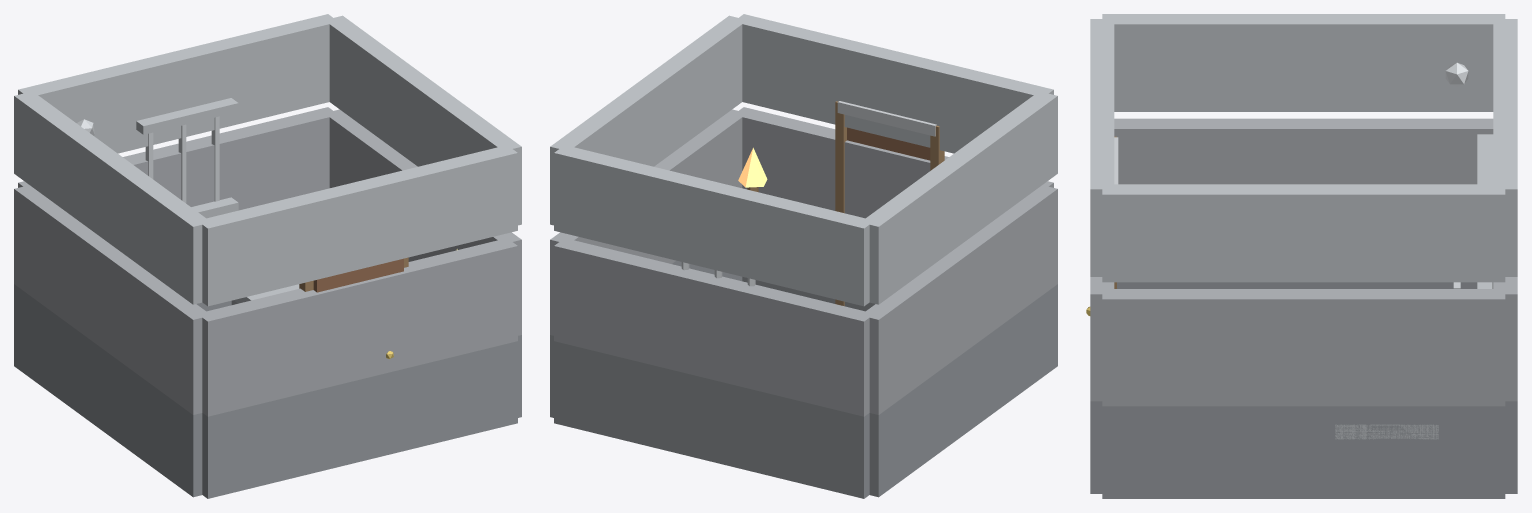
File: dungeon_cell_interior.glb
3 renders of one model, left to right at view 1: azimuth 30°, elevation 25°; view 2: azimuth 150°, elevation 25°; view 3: azimuth 270°, elevation 25°, orthographic. The views are drawn at different scales.
Parts seen in each view (by area): view 1: floor_slab; view 2: floor_slab; view 3: floor_slab.
Part boxes in pixels (x1=…): floor_slab: x1=14, y1=14, x2=521, y2=498; floor_slab: x1=550, y1=14, x2=1057, y2=498; floor_slab: x1=1086, y1=14, x2=1517, y2=498.
Bounding box in the file's own units: 3.18 × 2.5 × 3.21.
